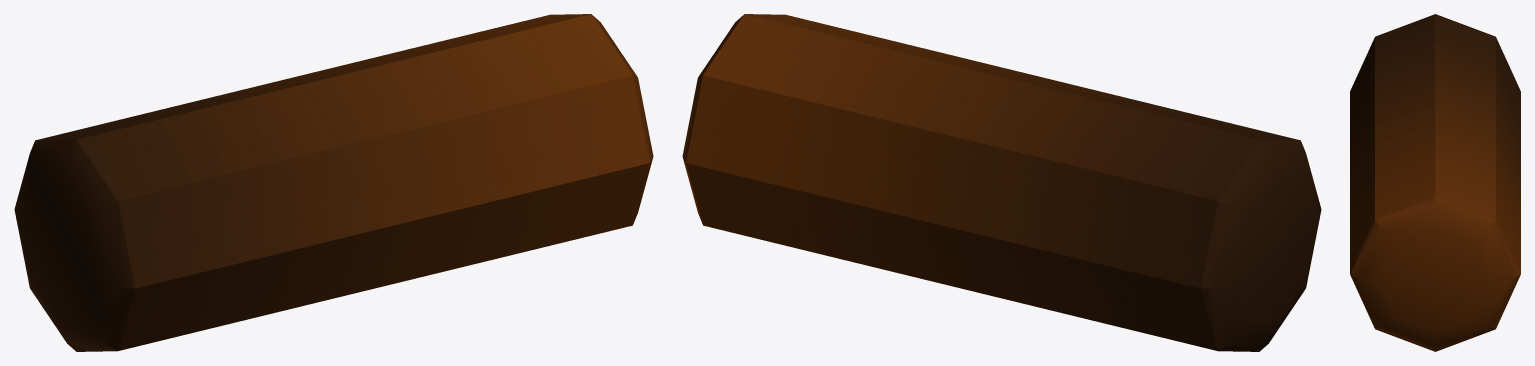
The model's file is Log_2.fbx.
3 views of the same model, side by side, from view 1: azimuth 30°, elevation 25°; view 2: azimuth 150°, elevation 25°; view 3: azimuth 270°, elevation 25° (orthographic). The views are drawn at different scales.
Parts seen in each view (by area): view 1: Log; view 2: Log; view 3: Log.
Boxes of the visible parts, x1,y1,x2,y2 form: Log: [14, 14, 653, 351]; Log: [682, 14, 1321, 351]; Log: [1350, 14, 1520, 351].
Size of the model in its own units: 2.22 by 0.817 by 0.817.
